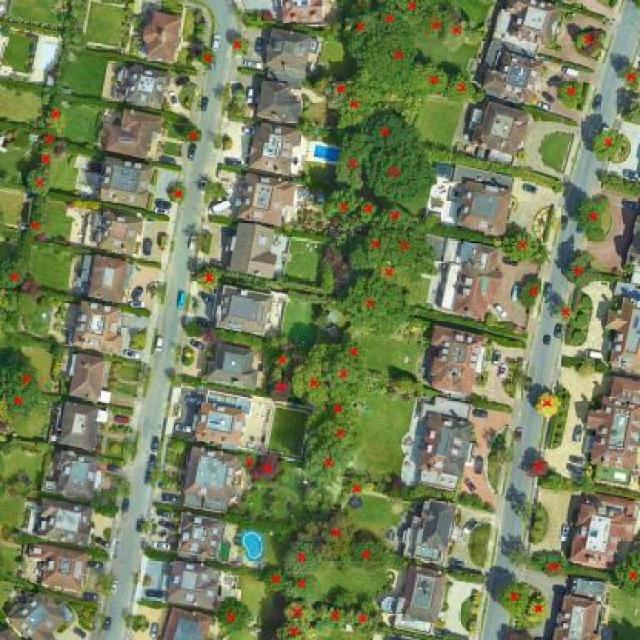tree: (342, 26, 423, 102), (334, 270, 415, 344), (366, 137, 442, 211), (352, 105, 428, 153), (386, 222, 442, 282), (298, 392, 369, 437), (332, 81, 386, 136), (297, 336, 331, 416), (204, 592, 259, 639), (329, 132, 369, 196), (303, 432, 345, 492), (345, 227, 397, 275), (332, 10, 382, 59), (402, 60, 453, 106), (312, 419, 371, 458), (349, 532, 393, 583), (322, 506, 358, 568), (278, 537, 327, 580), (321, 182, 374, 221), (325, 357, 370, 401), (372, 201, 425, 236), (30, 94, 75, 135), (609, 545, 640, 601), (495, 572, 527, 626), (591, 122, 629, 167), (572, 193, 610, 238), (558, 250, 598, 292), (0, 358, 43, 396), (441, 7, 473, 58), (258, 560, 297, 598), (442, 69, 482, 106), (317, 73, 354, 113), (502, 225, 536, 268), (386, 0, 436, 29), (251, 448, 287, 488), (552, 75, 590, 112), (279, 588, 316, 626), (266, 615, 322, 640), (368, 258, 409, 292), (512, 271, 546, 312), (0, 386, 42, 419), (530, 385, 564, 424), (415, 5, 447, 46), (56, 24, 93, 59), (349, 597, 382, 635), (262, 350, 300, 382), (367, 4, 405, 36), (527, 587, 553, 631), (22, 163, 53, 199), (332, 333, 366, 365), (0, 251, 26, 291), (291, 575, 327, 603), (524, 450, 553, 484), (192, 262, 223, 293), (163, 175, 191, 208), (28, 122, 60, 150), (315, 604, 348, 631), (540, 546, 566, 580), (343, 468, 368, 503), (351, 200, 382, 226), (618, 61, 640, 97), (266, 377, 294, 405), (226, 32, 254, 59), (569, 23, 596, 51), (201, 178, 230, 204), (164, 177, 190, 206), (193, 47, 221, 73), (128, 324, 149, 358), (11, 271, 40, 295), (31, 143, 57, 169), (20, 213, 46, 239), (570, 358, 599, 380), (551, 298, 575, 322), (183, 316, 205, 342), (182, 123, 204, 146), (238, 452, 259, 476), (260, 6, 277, 28), (168, 441, 188, 459)
